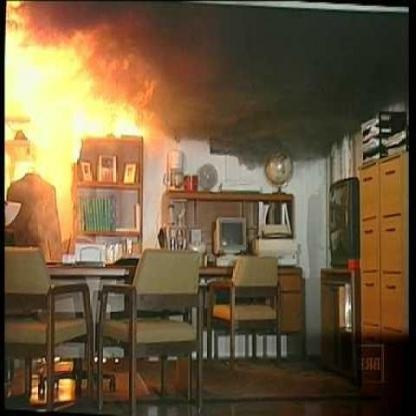fire: (0, 4, 175, 207)
